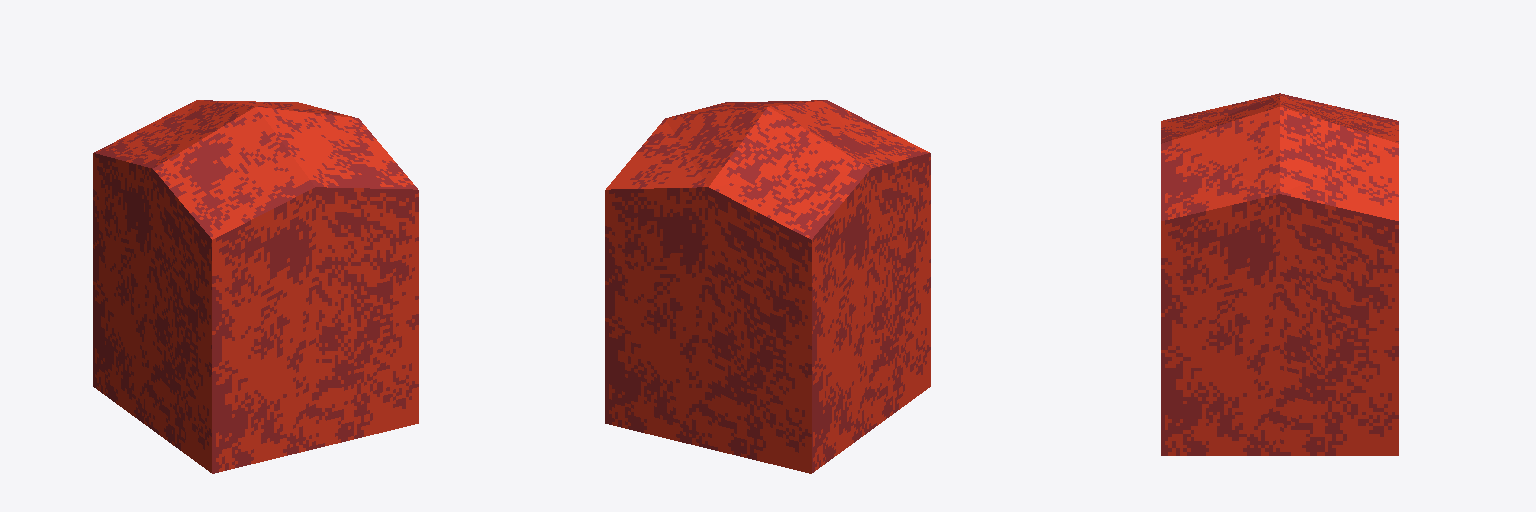
3 renders of one model, left to right at view 1: azimuth 30°, elevation 25°; view 2: azimuth 150°, elevation 25°; view 3: azimuth 270°, elevation 25°, orthographic.
Visible parts, largest first — view 1: Crops; view 2: Crops; view 3: Crops.
Boxes of the visible parts, box(x1,y1,x2,y2) form: Crops: box(93, 100, 418, 473); Crops: box(605, 100, 930, 473); Crops: box(1161, 93, 1398, 455).
Size of the model in its own units: 1.68 by 2.32 by 1.68.
1 materials, 1 textured.